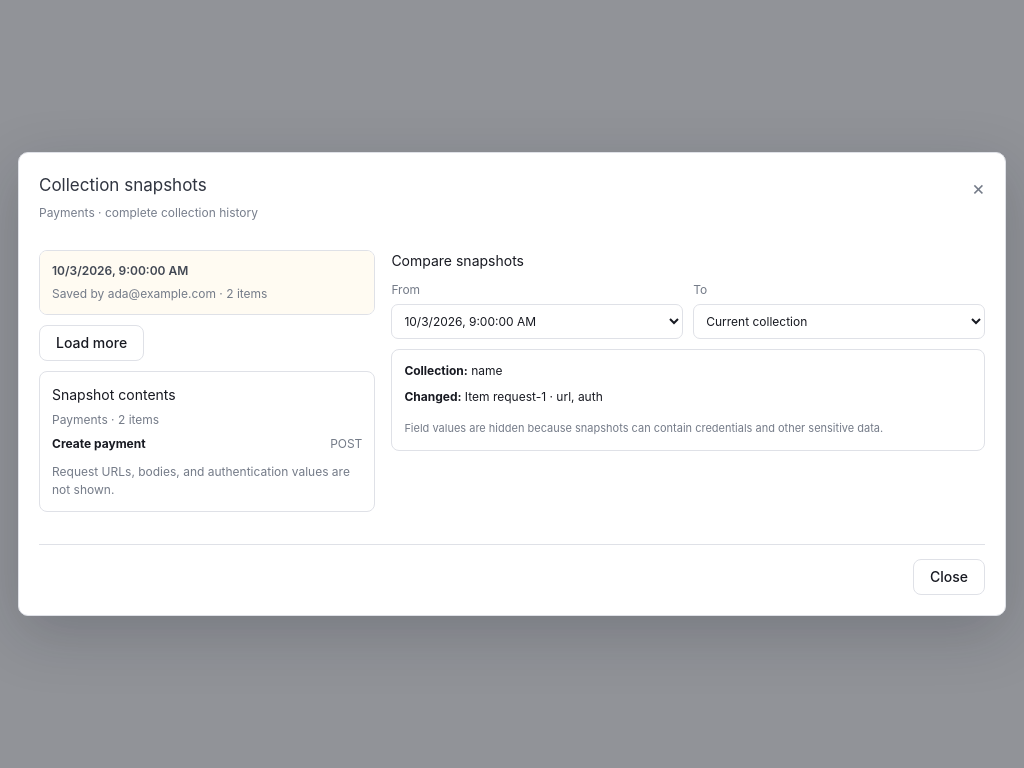
Test: collection snapshots dialog › loads the next snapshot page using the returned offset
Check: the text "Saved by ada@example.com · 2 items" is shown, box [52,285,267,303]
What coordinates should you click on to do the following:
click the button "Load more"
I would click on:
 (92, 343)
Its box is [39,325,144,361].
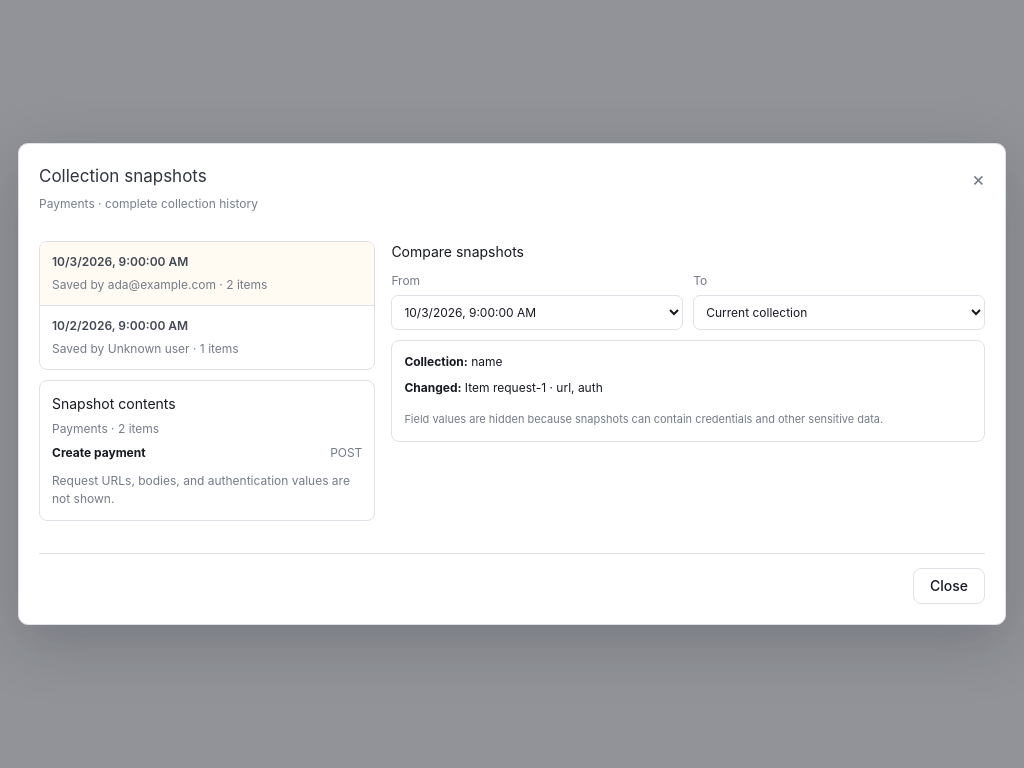
Check: the text "Saved by Unknown user · 1 items" is shown, box [52,340,239,358]
